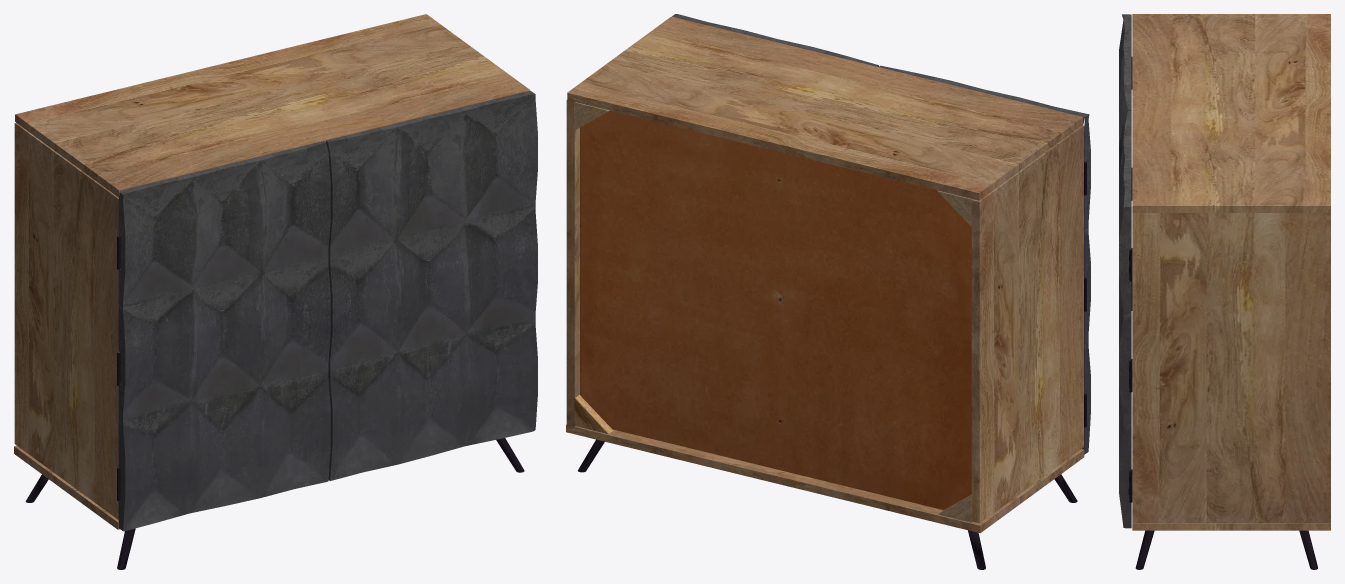
The model's file is B07HSDP2CP.glb.
3 views of the same model, side by side, from view 1: azimuth 30°, elevation 25°; view 2: azimuth 150°, elevation 25°; view 3: azimuth 270°, elevation 25° (orthographic). The views are drawn at different scales.
Parts seen in each view (by area): view 1: RootNode; view 2: RootNode; view 3: RootNode.
Part boxes in pixels (bbox=[...]): RootNode: bbox=[14, 14, 537, 569]; RootNode: bbox=[566, 14, 1090, 569]; RootNode: bbox=[1119, 14, 1330, 569].
Bounding box in the file's own units: 0.9673 × 0.8471 × 0.4456.
Materials: 1 (1 with a texture image).
